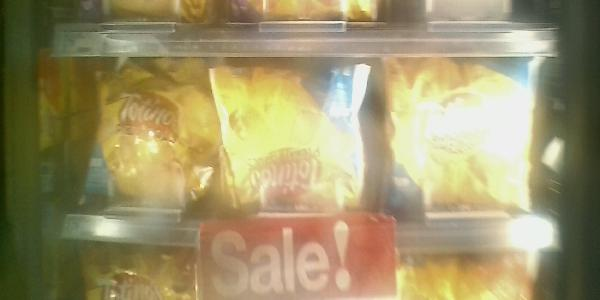icecream: (208, 61, 372, 218), (71, 58, 220, 226), (379, 56, 532, 214)
